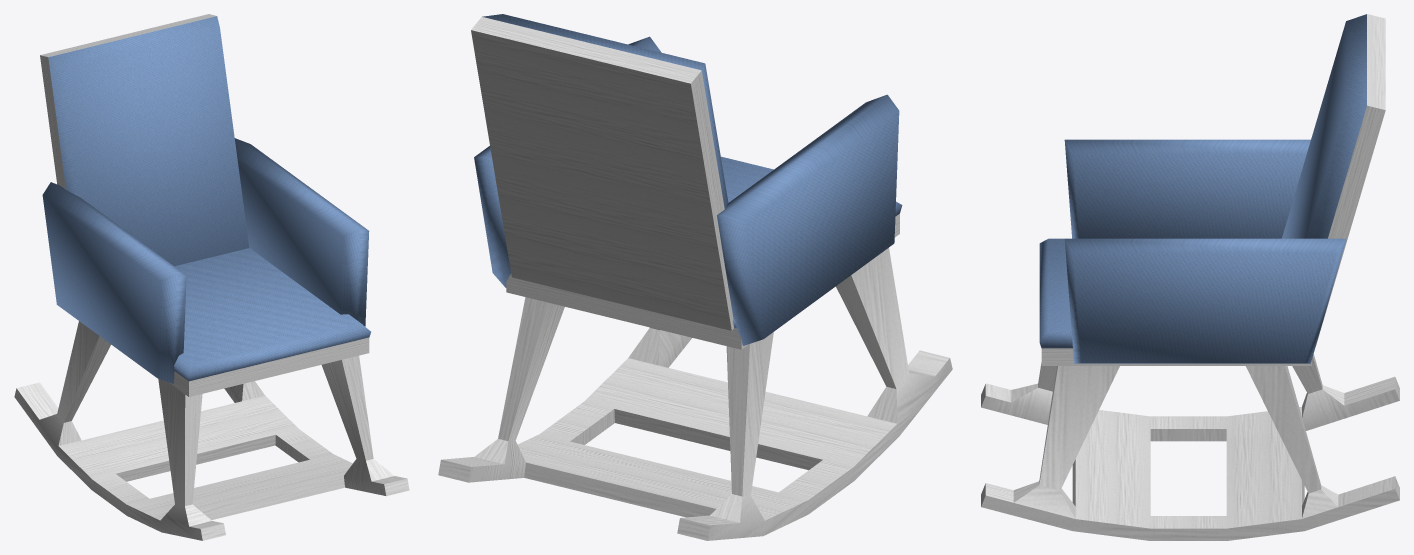
The model's file is Rocker_B.FBX.
3 views of the same model, side by side, from view 1: azimuth 30°, elevation 25°; view 2: azimuth 150°, elevation 25°; view 3: azimuth 270°, elevation 25° (orthographic). The views are drawn at different scales.
Visible parts, largest first — view 1: Rocker; view 2: Rocker; view 3: Rocker.
Part boxes in pixels (x1,y1,x2,y2): Rocker: (14,14,409,540); Rocker: (438,14,952,540); Rocker: (981,14,1399,540).
Size of the model in its own units: 99.55 by 175 by 156.
